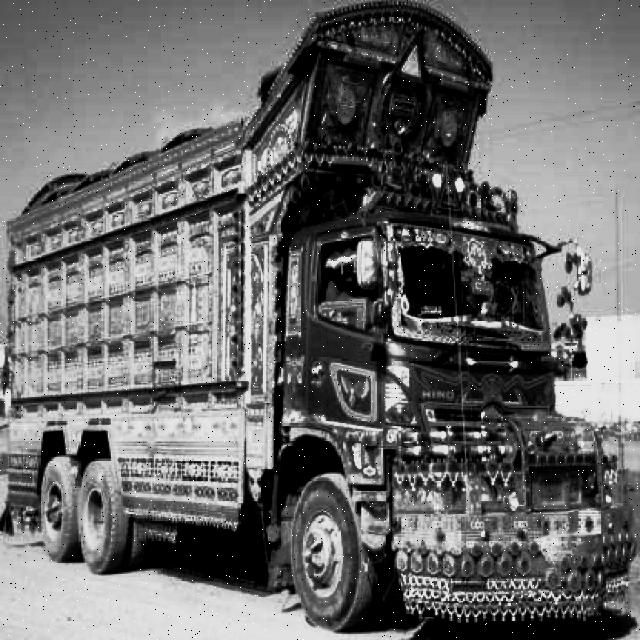HCV: (31, 107, 625, 618)
